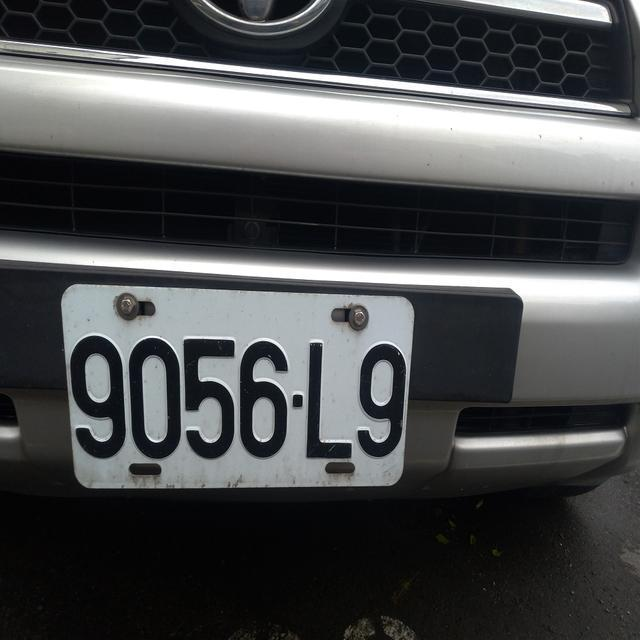plate: (60, 322, 410, 466)
